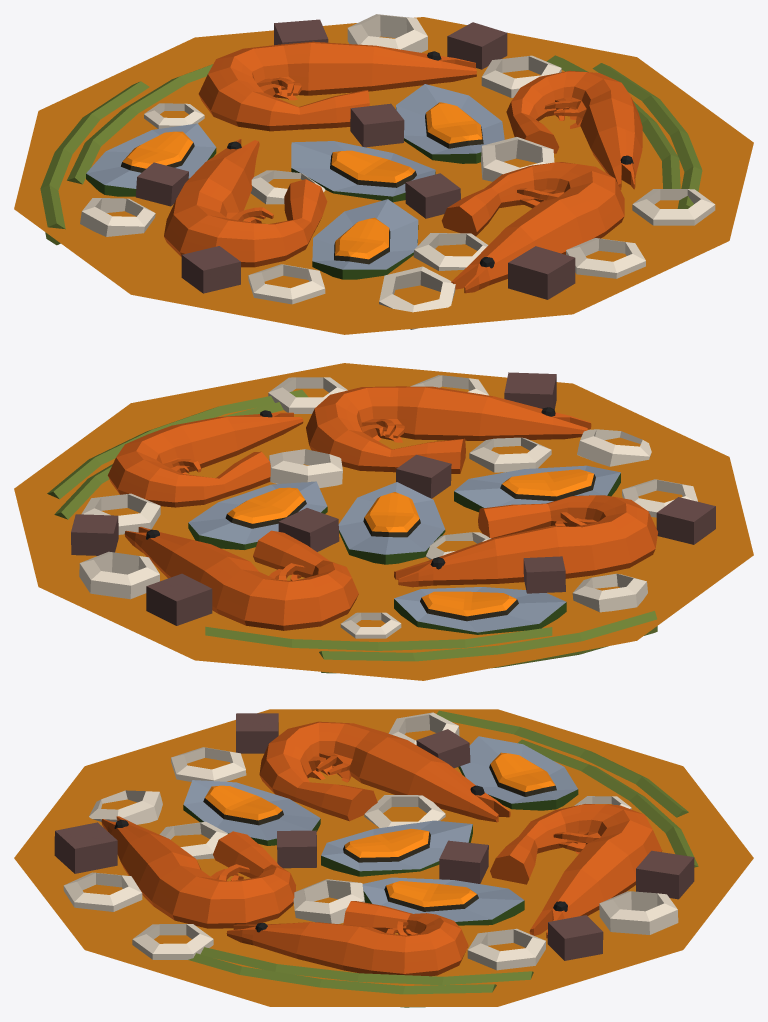
File: Seafood karekare.fbx
The picture shows the model from 3 angles, top to bottom: view 1: azimuth 30°, elevation 25°; view 2: azimuth 150°, elevation 25°; view 3: azimuth 270°, elevation 25°; orthographic projection. The views are drawn at different scales.
Parts seen in each view (by area): view 1: Seafood KareKare; view 2: Seafood KareKare; view 3: Seafood KareKare.
Part boxes in pixels (bbox=[...]): Seafood KareKare: bbox=[14, 14, 753, 334]; Seafood KareKare: bbox=[14, 363, 753, 680]; Seafood KareKare: bbox=[14, 709, 753, 1007].
Size of the model in its own units: 94.67 by 9.47 by 99.54.
